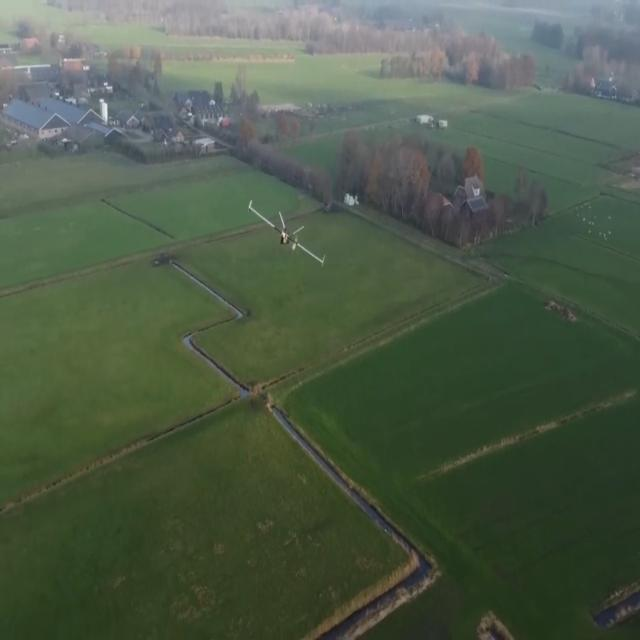iha: (281, 228, 294, 232)
